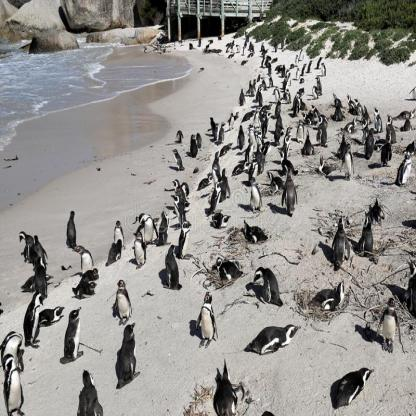Penguin: (325, 354, 381, 412), (198, 354, 245, 415), (252, 318, 304, 372), (113, 318, 147, 400), (188, 287, 228, 356), (52, 300, 90, 370), (11, 280, 44, 356), (313, 272, 356, 328), (323, 200, 354, 271), (352, 197, 383, 265), (250, 263, 288, 315), (65, 363, 101, 415), (106, 279, 140, 332), (373, 301, 403, 361), (70, 236, 102, 286), (2, 354, 28, 415), (174, 211, 200, 264), (161, 243, 185, 300), (56, 203, 85, 249), (392, 141, 415, 198), (208, 255, 243, 292), (107, 208, 132, 259), (238, 215, 275, 249), (12, 224, 40, 266), (130, 201, 155, 248), (126, 224, 148, 274), (312, 147, 338, 187), (336, 137, 356, 181), (153, 203, 173, 245), (36, 301, 64, 331), (249, 180, 268, 216), (281, 168, 302, 199)
